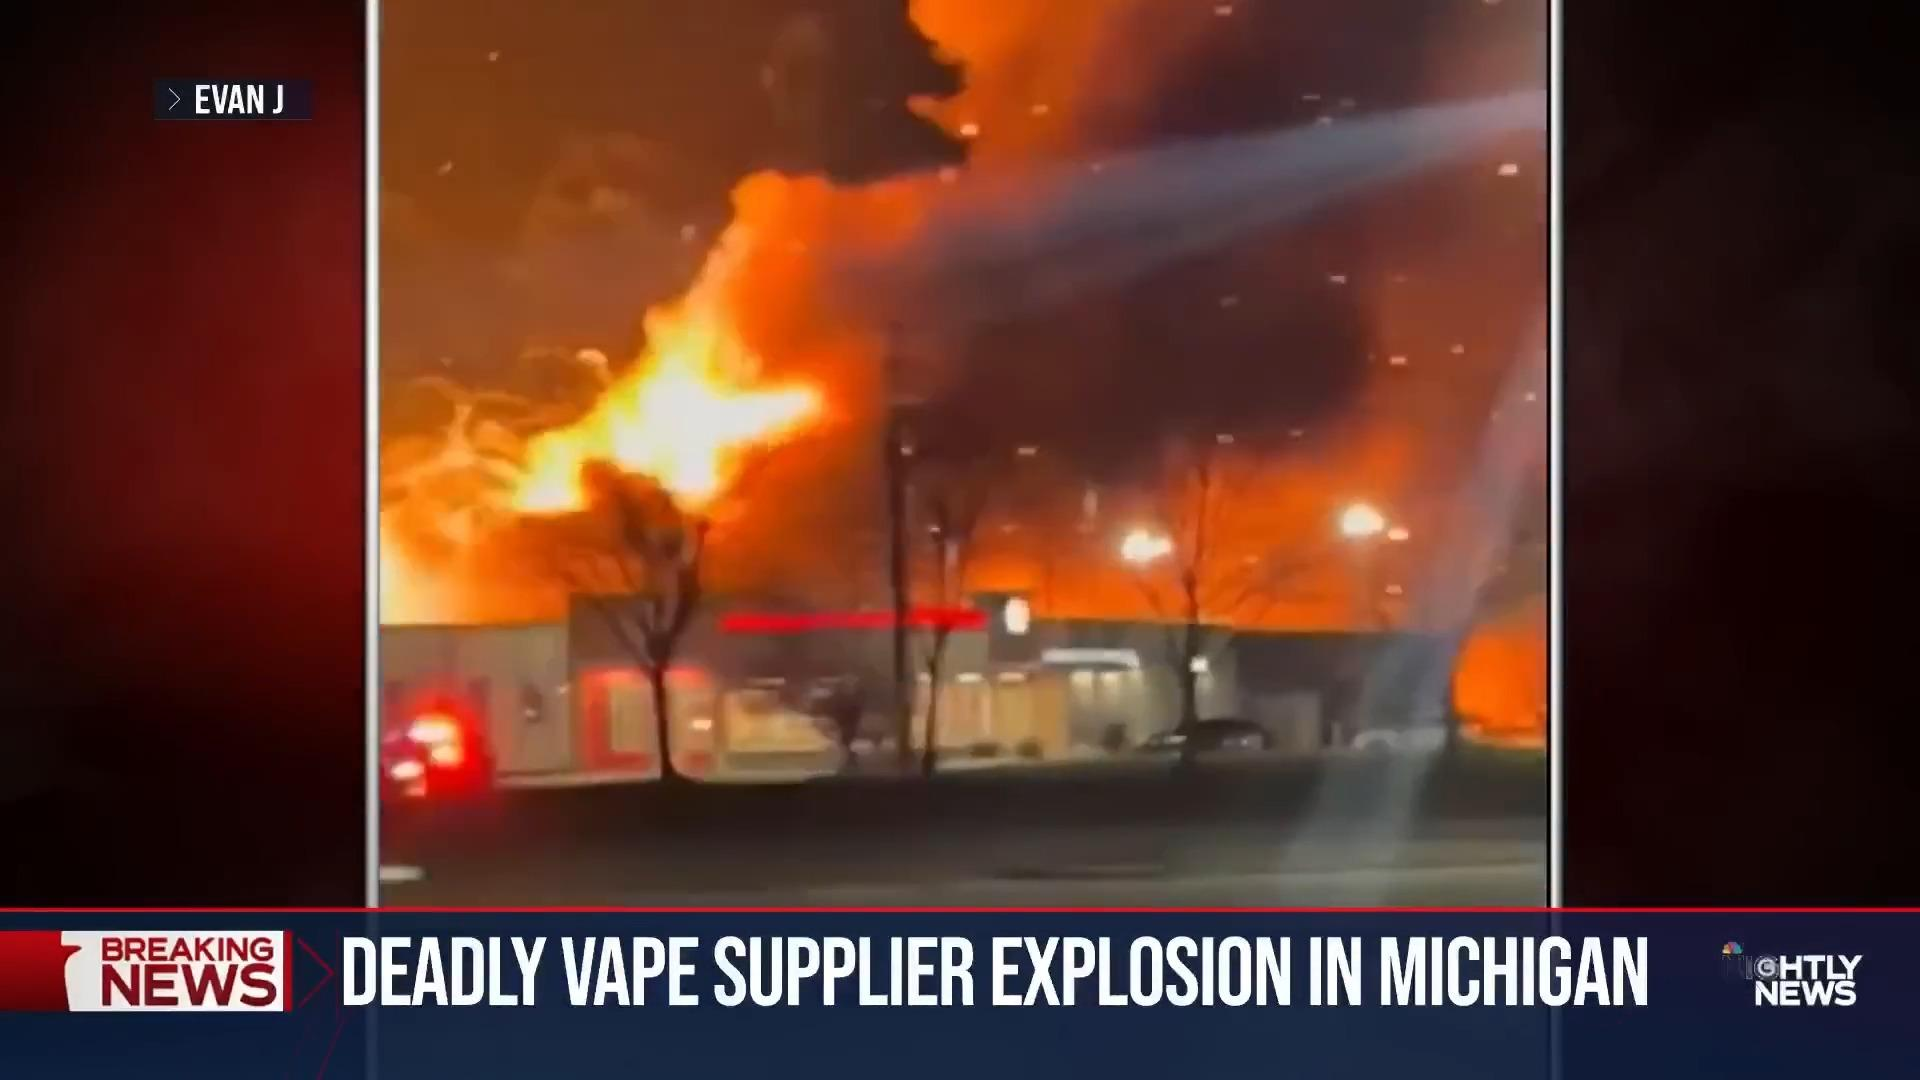fire: (375, 0, 1097, 585)
